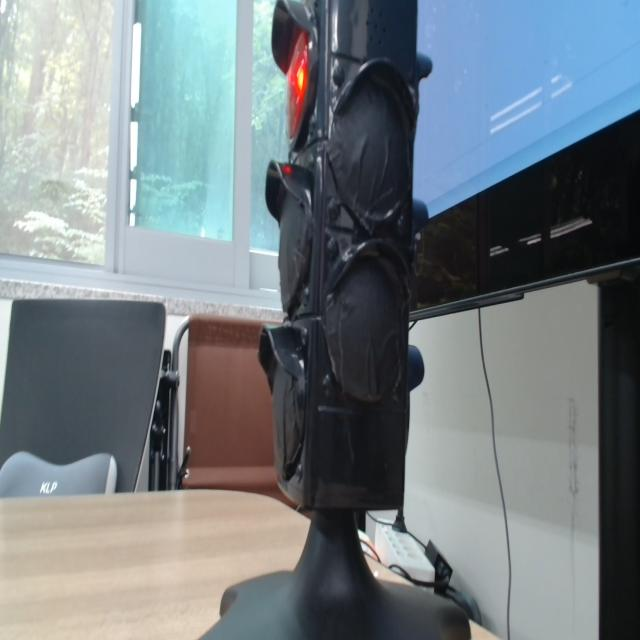red_light: (287, 32, 308, 139)
